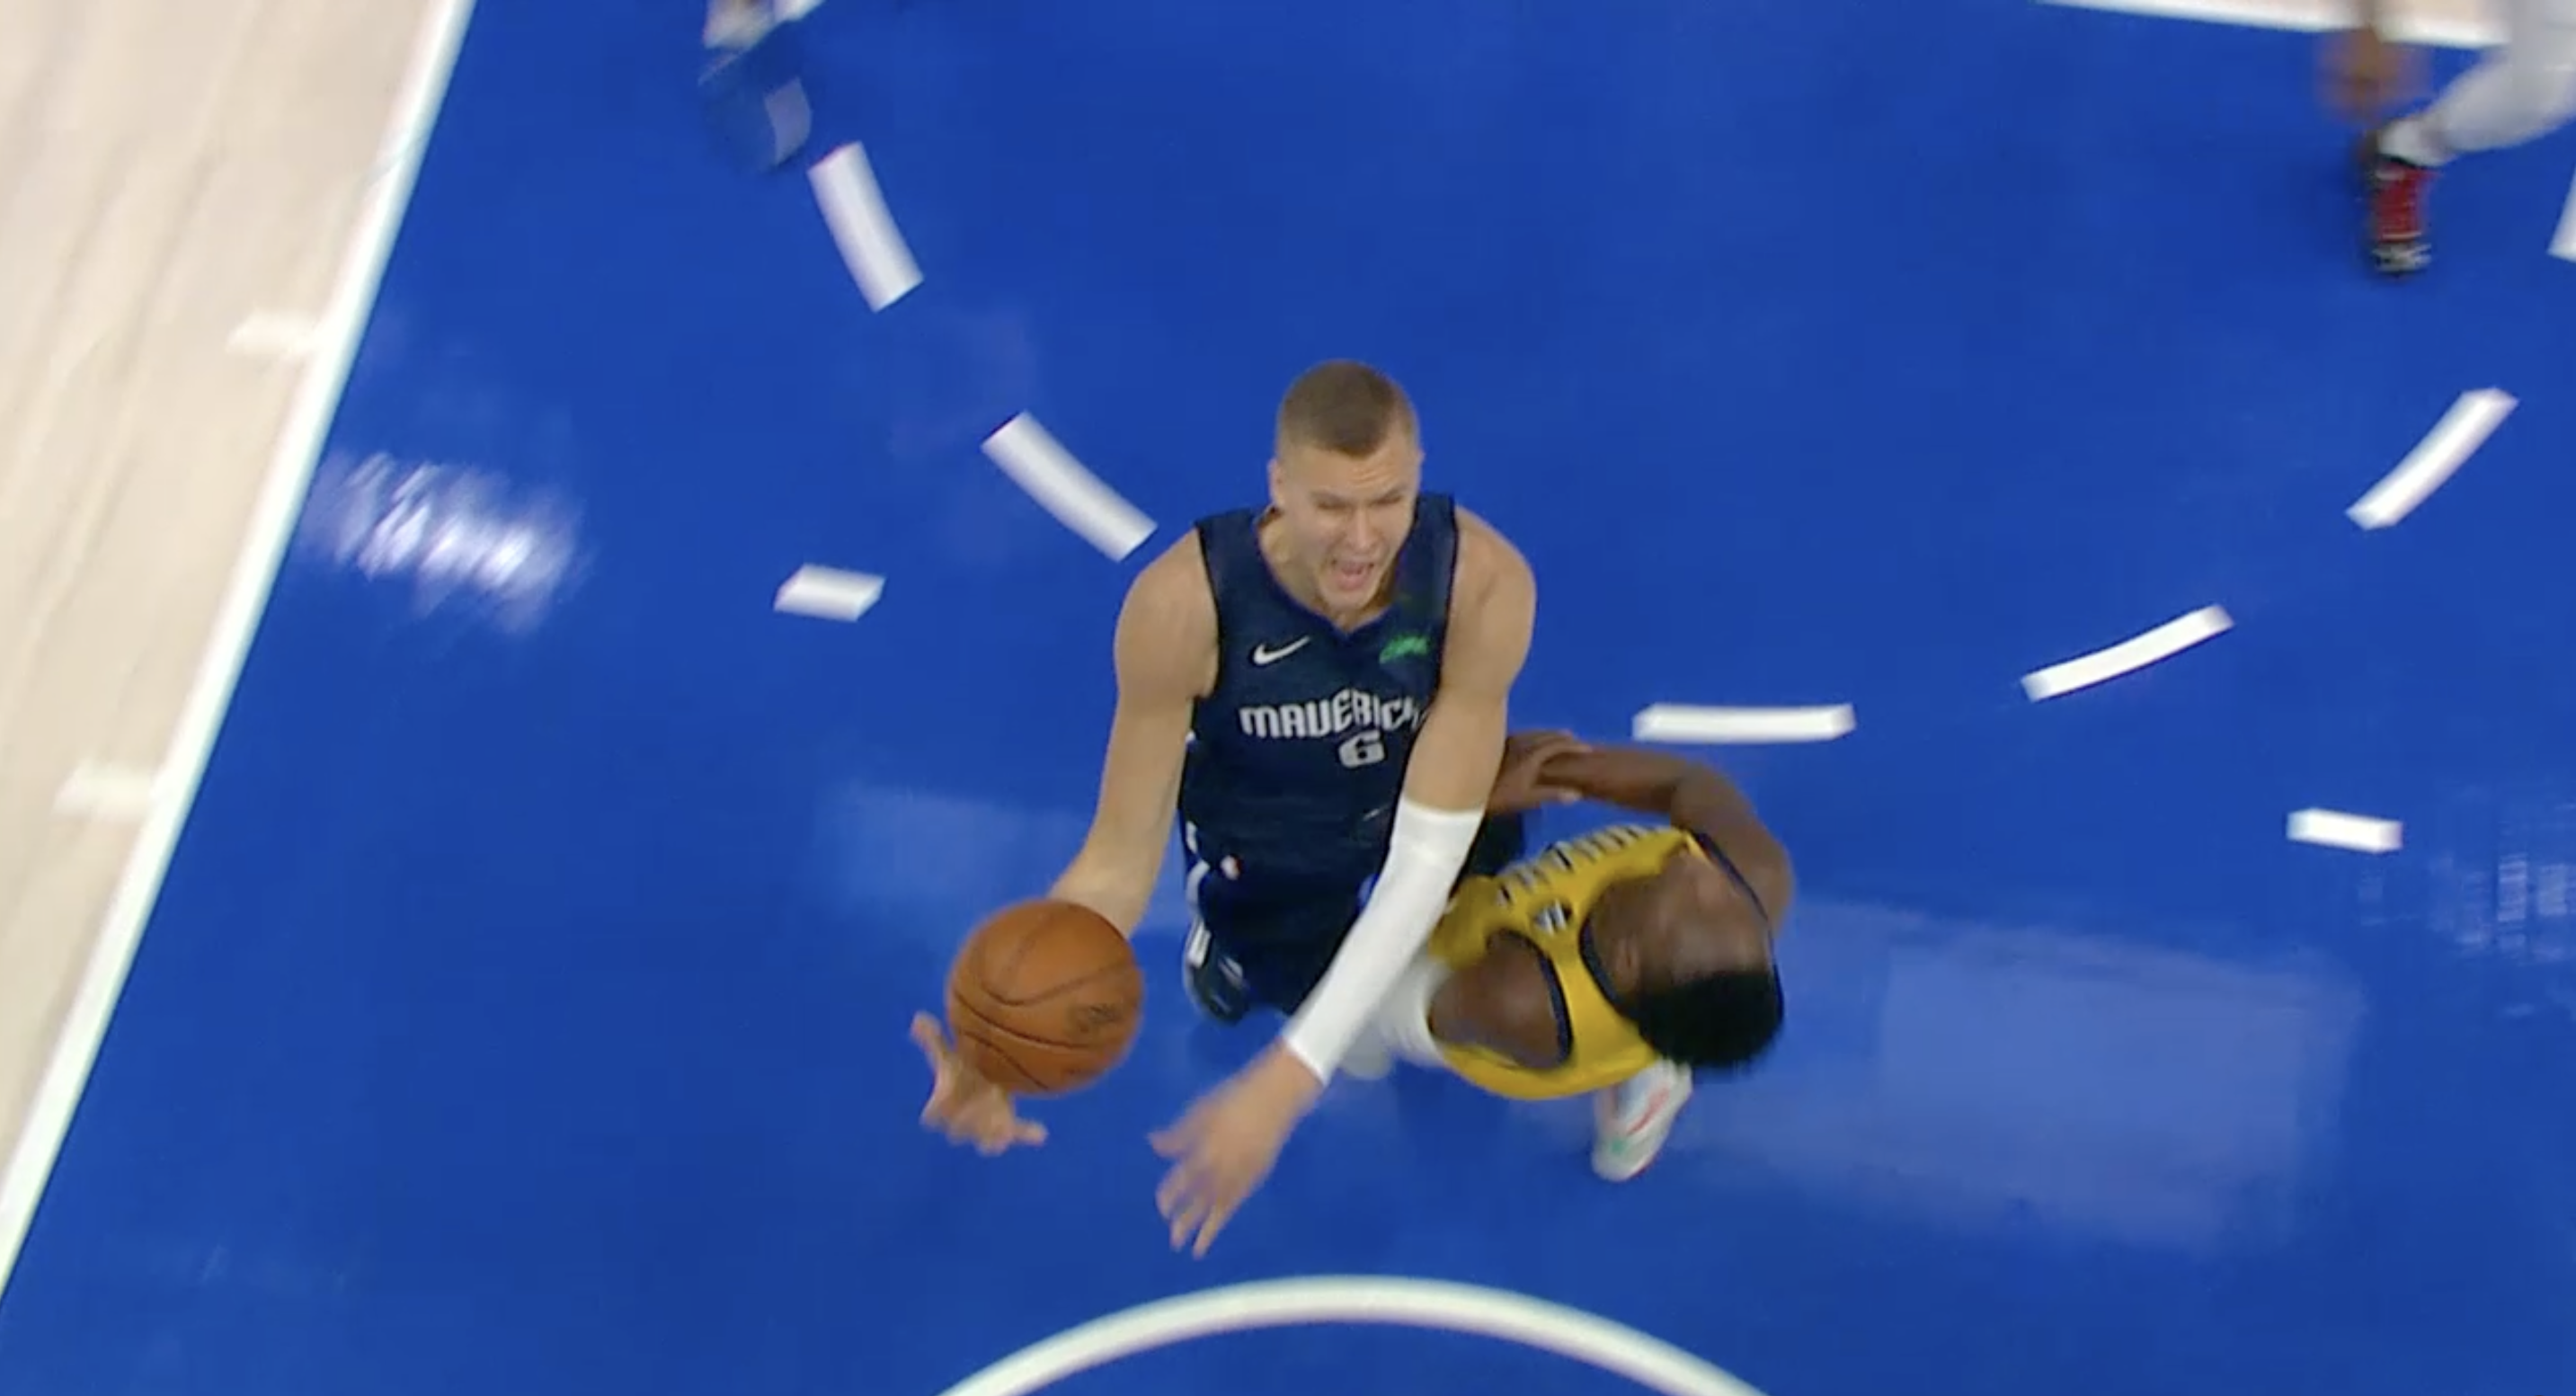Foul: (928, 346, 1830, 1262)
